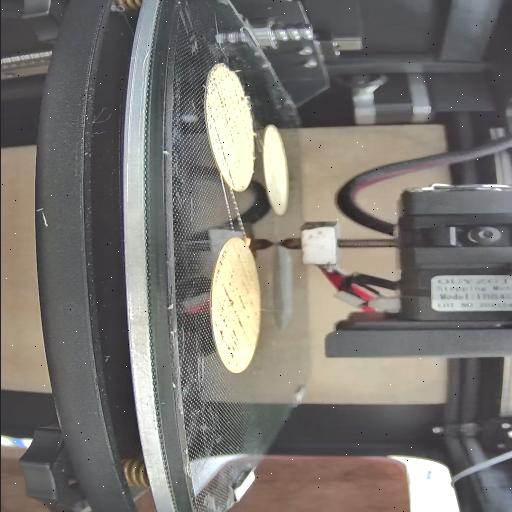under_extrusion: (214, 250, 246, 366), (198, 69, 245, 125), (215, 131, 235, 191)
